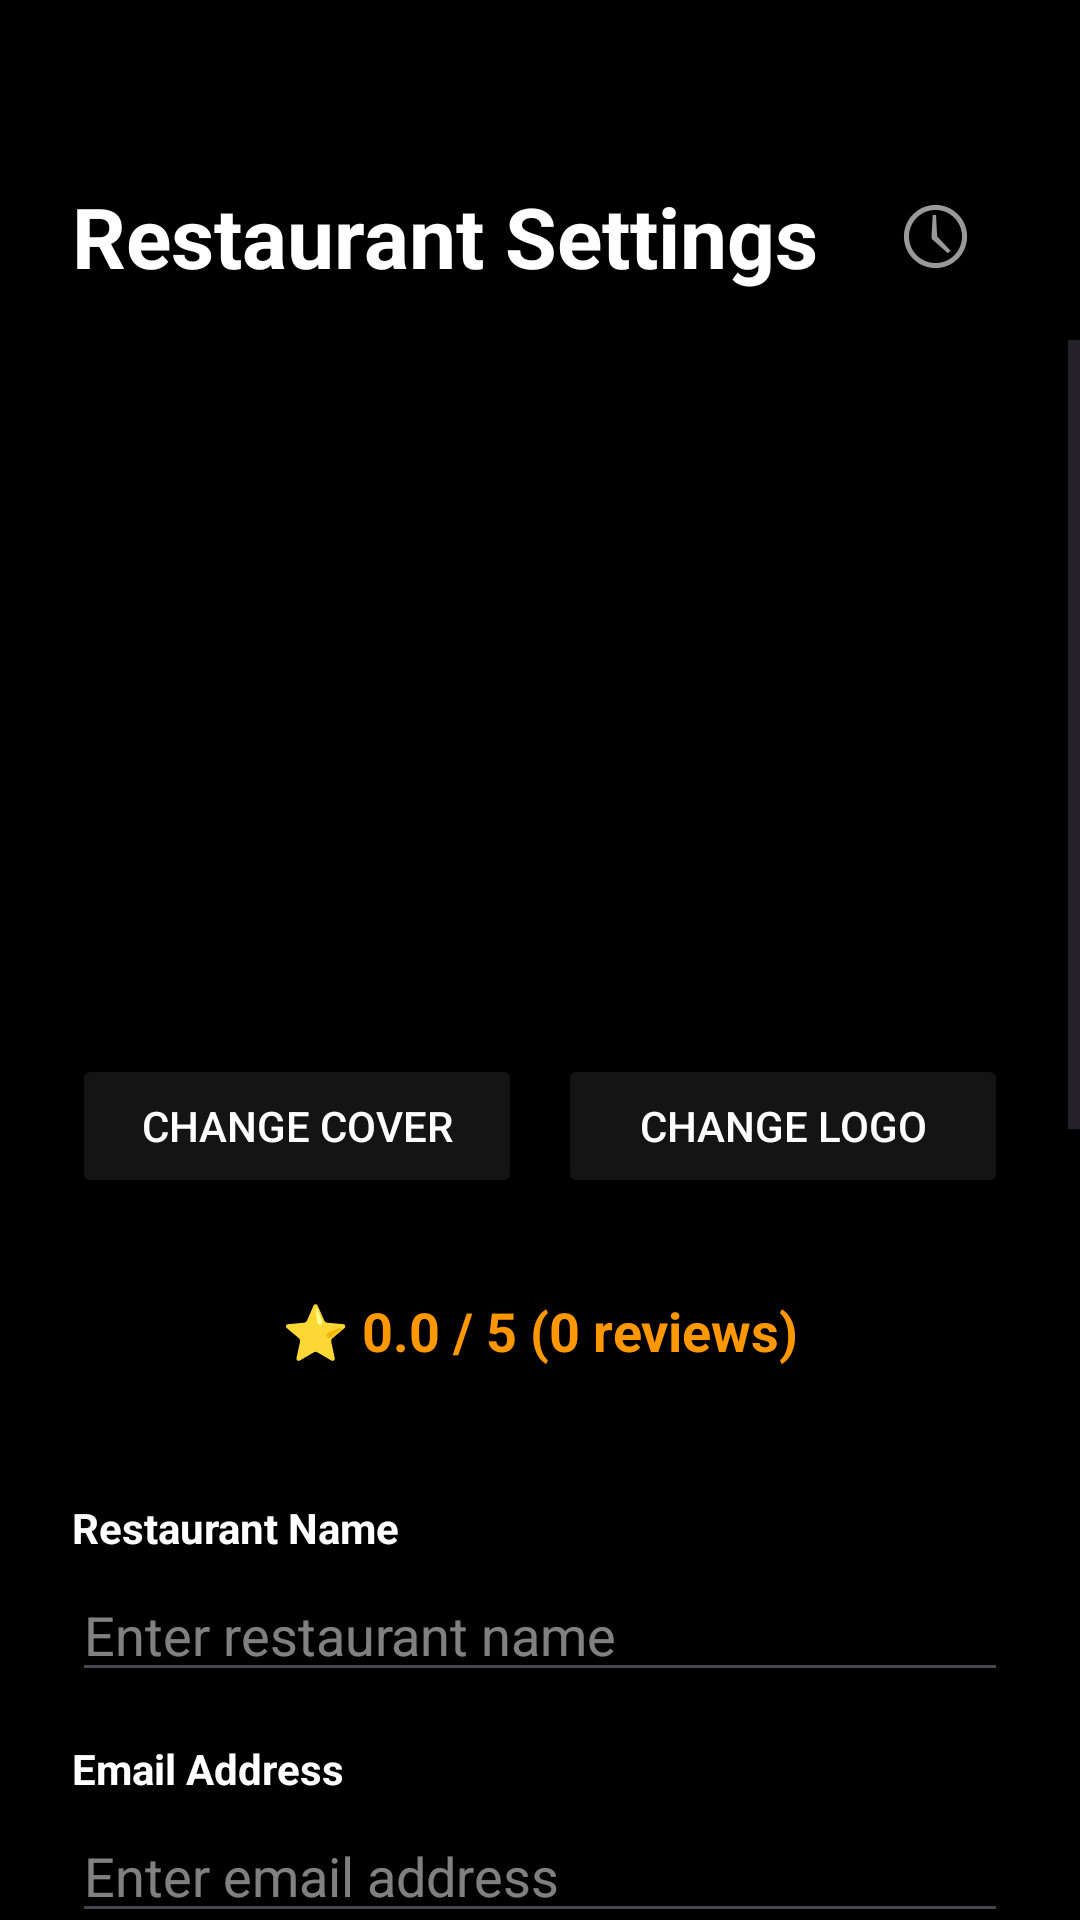

Where icons sit on this 1080x1920 app screen, as box(x1, y1, x2, y2):
Order History: box(904, 205, 967, 268)
